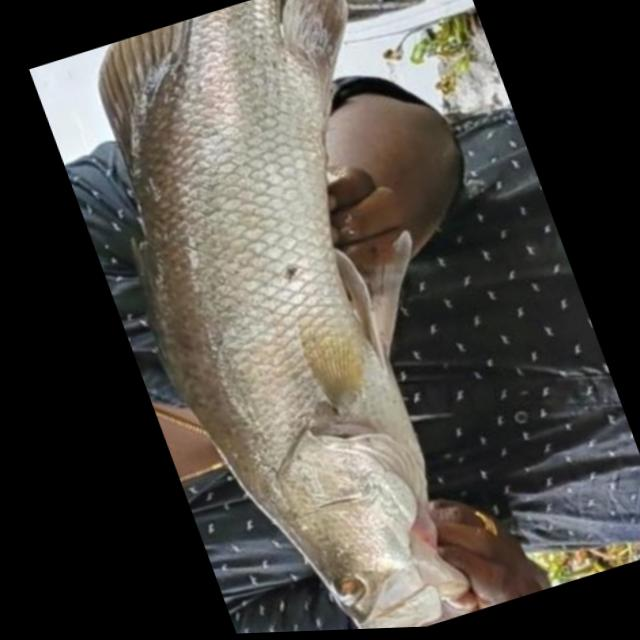Seabass: (41, 0, 552, 638)
